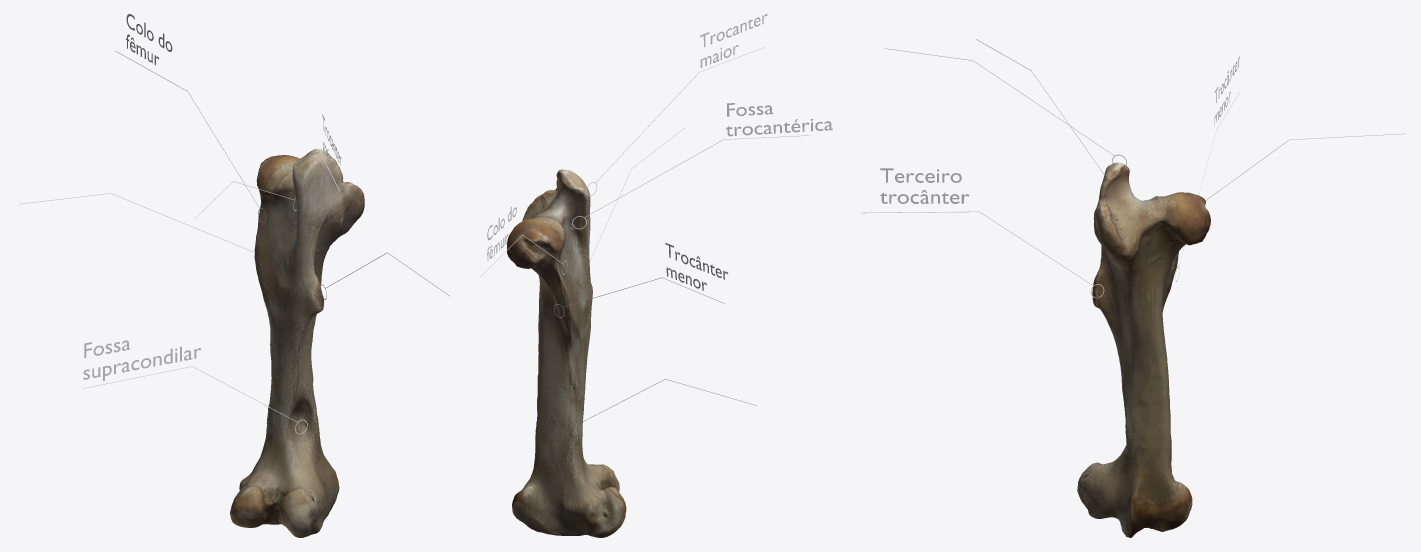
The model's file is Femur-editado_modelo1.4.glb.
3 renders of one model, left to right at view 1: azimuth 30°, elevation 25°; view 2: azimuth 150°, elevation 25°; view 3: azimuth 270°, elevation 25°, orthographic. The views are drawn at different scales.
Visible parts, largest first — view 1: Mesh_0, Texto.002; view 2: Mesh_0, Texto.005, Texto.006, Texto.003; view 3: Mesh_0, Texto.001.
Part boxes in pixels (left/top/right/bottom): Mesh_0: left=230, top=149, right=364, bottom=537; Texto.002: left=83, top=340, right=200, bottom=381; Mesh_0: left=507, top=169, right=626, bottom=537; Texto.005: left=726, top=103, right=832, bottom=136; Texto.006: left=700, top=14, right=767, bottom=67; Texto.003: left=665, top=243, right=728, bottom=290; Mesh_0: left=1077, top=162, right=1210, bottom=537; Texto.001: left=880, top=168, right=969, bottom=203.
Bounding box in the file's own units: 1.5 × 2.47 × 2.55.
Materials: 7 (1 with a texture image).
